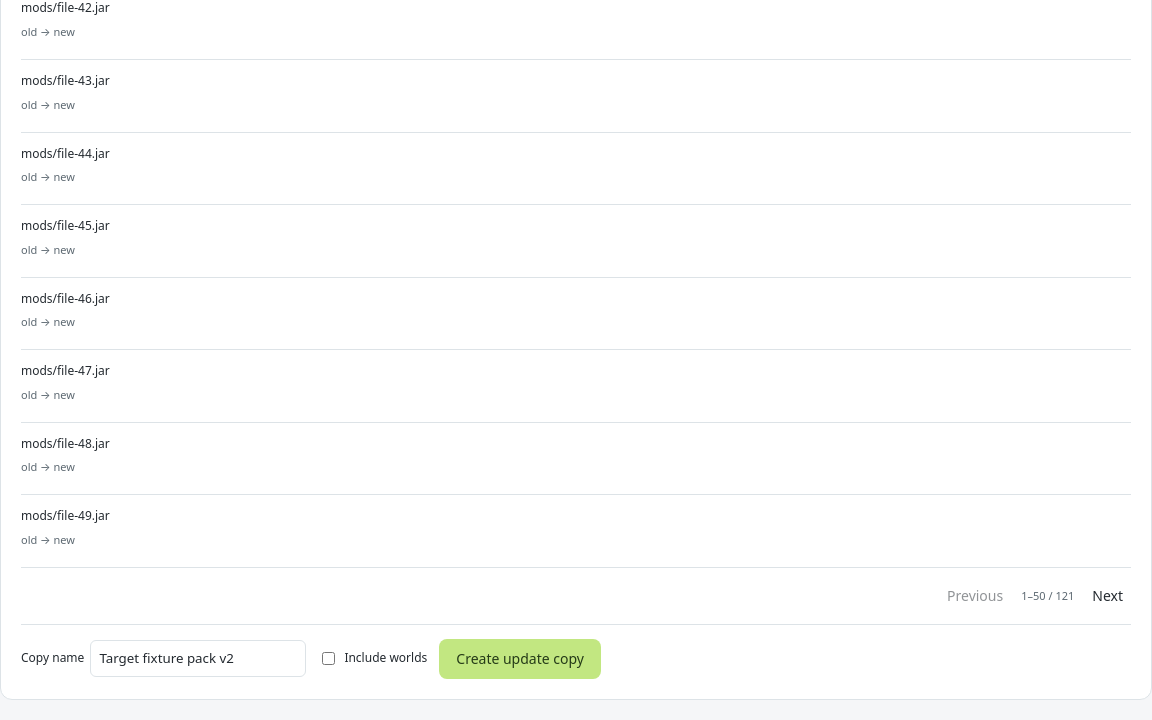
it: paginates fifty rows and searches the full preview, while preserving accurate group totals
This screenshot has width=1152, height=720.
(page scrolled)
Click the button "Next". click: click(1108, 596)
box: [1084, 580, 1131, 612]
(page scrolled)
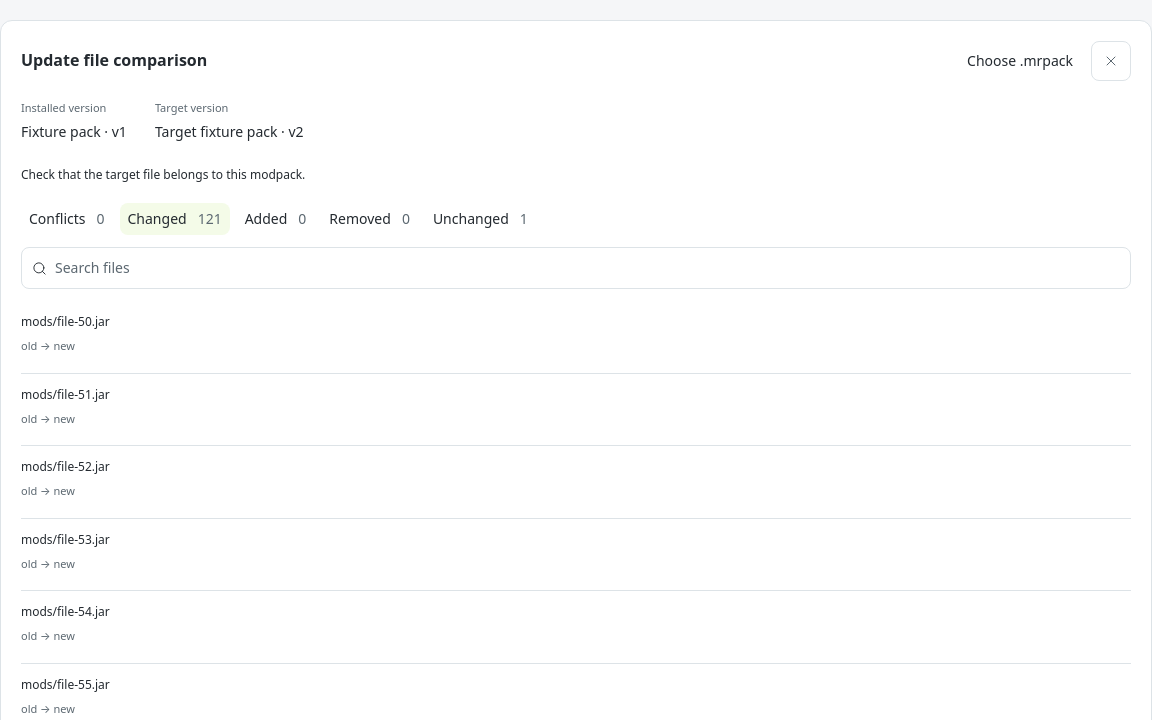
Type "file-120.jar" into the search field with placeholder "Search files". click: (588, 268)
box: [55, 248, 1120, 288]
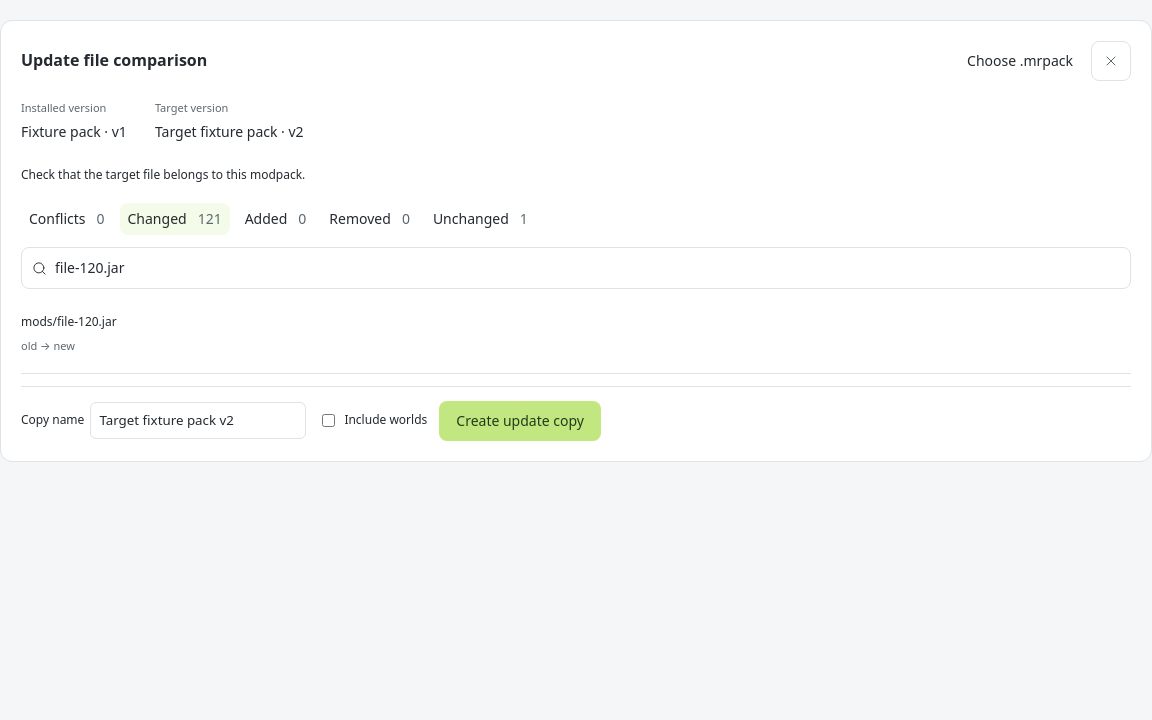
Expected: the button "Changed 121" is shown, [120, 203, 230, 235]
Expected: the number of list items is 1, [21, 301, 1131, 374]
Expected: the text "mods/file-120.jar" is shown, [21, 313, 117, 332]
